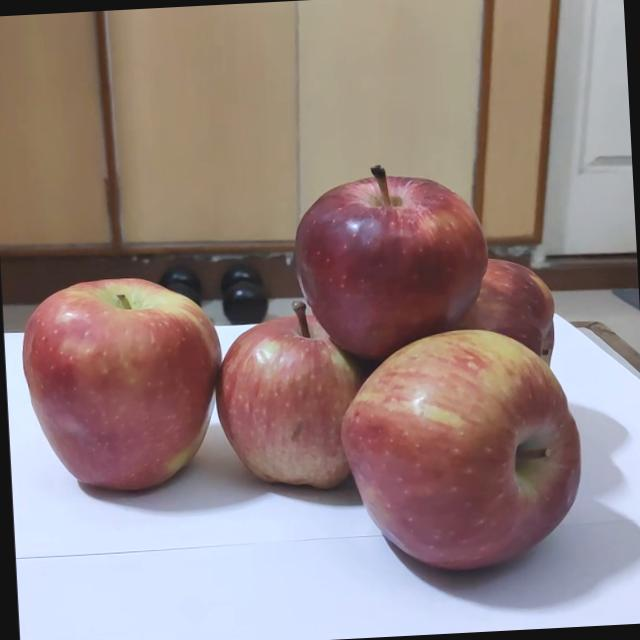apple: (337, 332, 598, 596), (0, 252, 251, 518), (281, 148, 508, 379), (204, 300, 394, 508), (388, 254, 588, 404)
